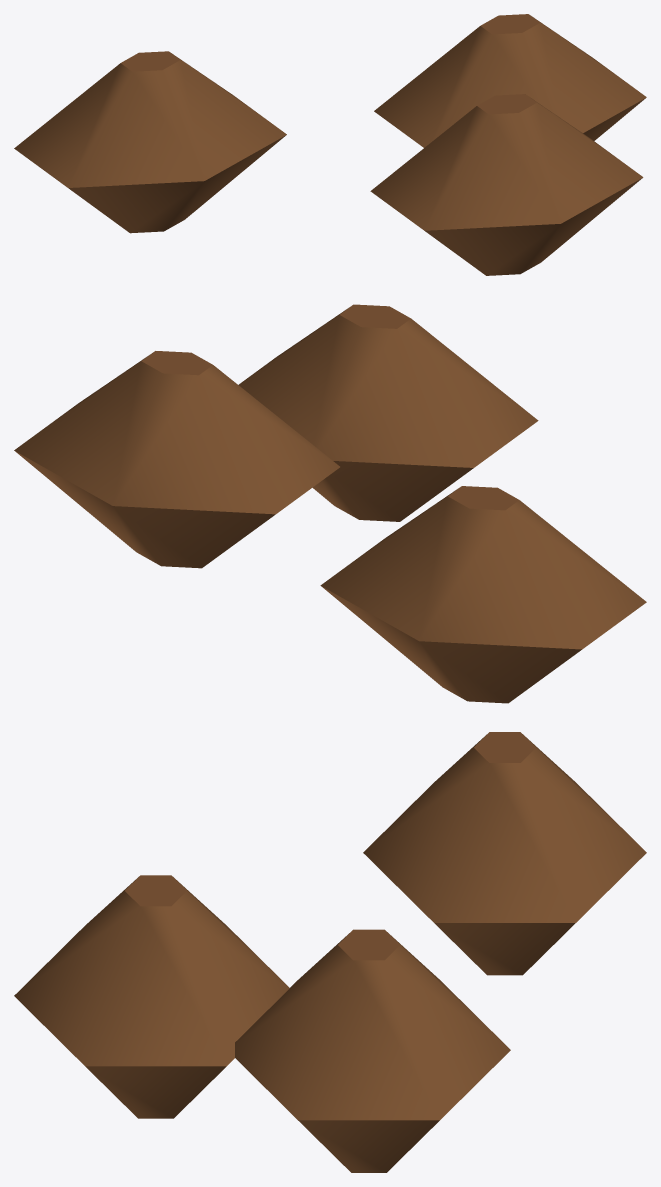
The model's file is crop_potato_seeded.glb.
The picture shows the model from 3 angles, top to bottom: view 1: azimuth 30°, elevation 25°; view 2: azimuth 150°, elevation 25°; view 3: azimuth 270°, elevation 25°; orthographic projection. The views are drawn at different scales.
Visible parts, largest first — view 1: crop_potato_seeded_seed_0; view 2: crop_potato_seeded_seed_0; view 3: crop_potato_seeded_seed_0.
Boxes of the visible parts, left/top/right/bottom form: crop_potato_seeded_seed_0: left=14, top=14, right=646, bottom=275; crop_potato_seeded_seed_0: left=14, top=304, right=646, bottom=703; crop_potato_seeded_seed_0: left=14, top=732, right=646, bottom=1172.
Size of the model in its own units: 0.1792 by 0.052 by 0.1419.
